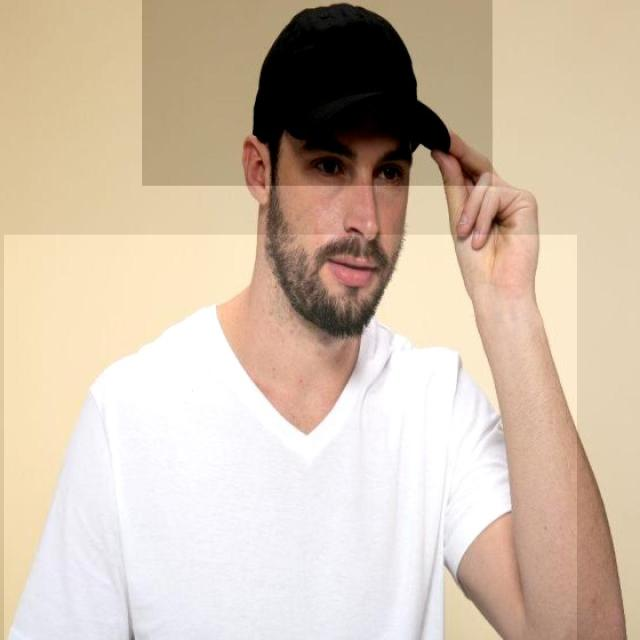Helmet: (4, 234, 577, 640), (142, 0, 492, 186)
